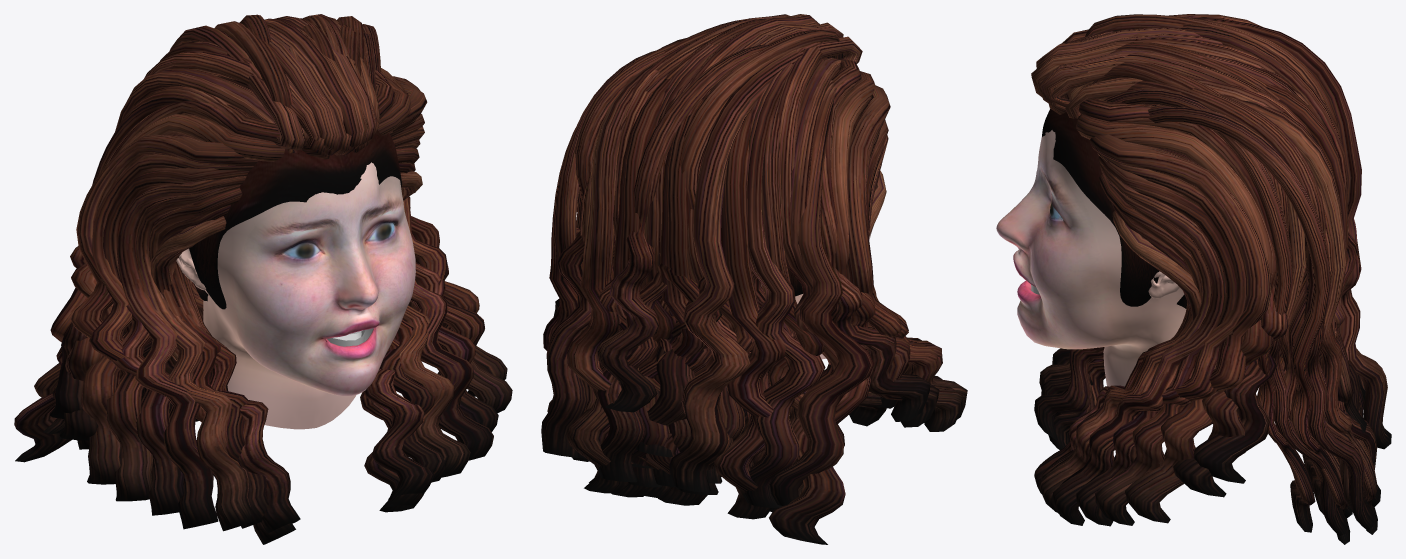
File: fear.obj
3 renders of one model, left to right at view 1: azimuth 30°, elevation 25°; view 2: azimuth 150°, elevation 25°; view 3: azimuth 270°, elevation 25°, orthographic. The views are drawn at different scales.
Visible parts, largest first — view 1: fear; view 2: fear; view 3: fear.
Boxes of the visible parts, bbox=[...] form: fear: bbox=[14, 14, 512, 544]; fear: bbox=[541, 14, 967, 544]; fear: bbox=[996, 14, 1391, 544].
Bounding box in the file's own units: 365 × 387 × 298.
